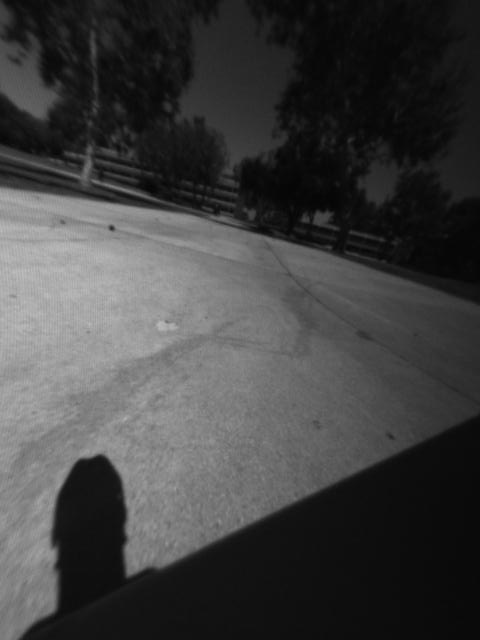dogtoy: (100, 217, 125, 238)
